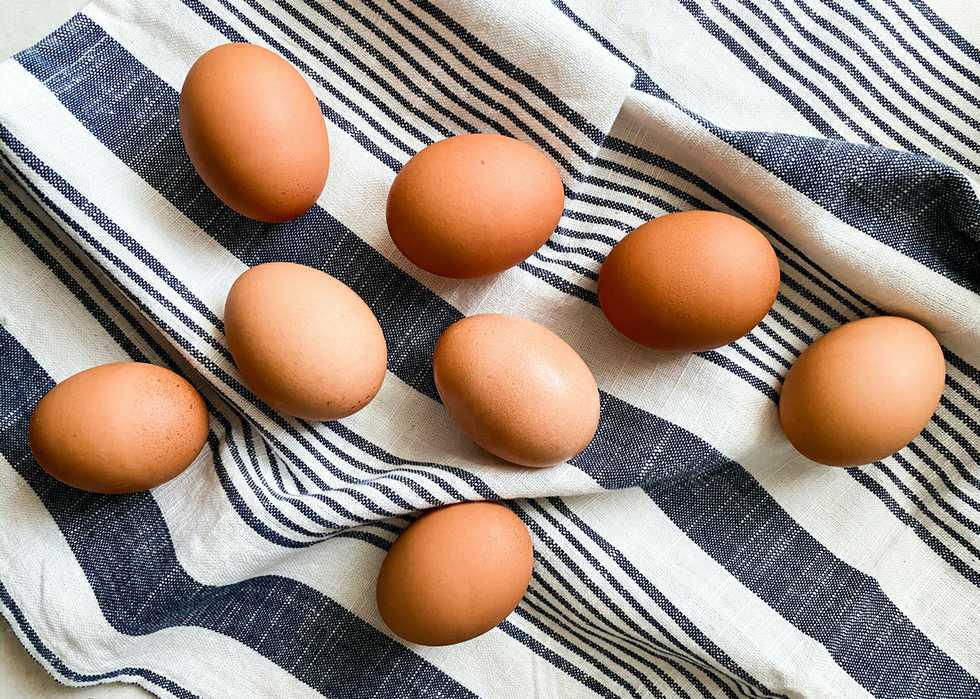egg: (173, 32, 333, 228), (765, 310, 951, 477), (426, 306, 611, 473), (216, 251, 393, 423), (377, 126, 570, 283), (587, 206, 785, 357), (14, 358, 217, 497), (373, 499, 536, 650)
